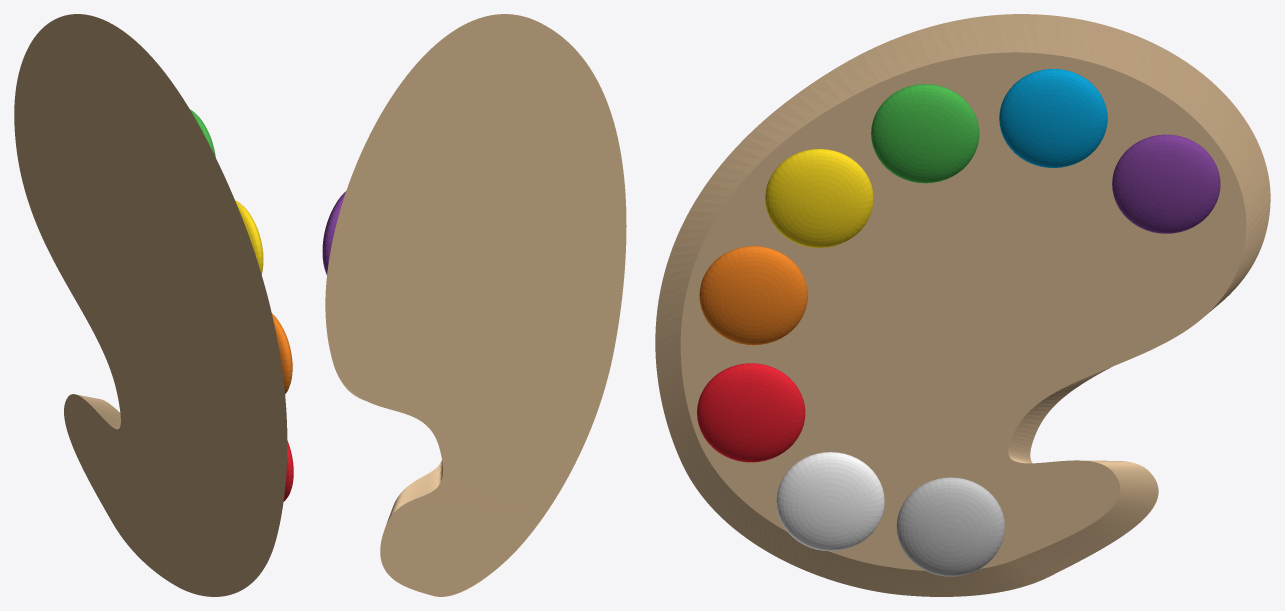
Rendered from palette.obj.
The picture shows the model from 3 angles, left to right: view 1: azimuth 30°, elevation 25°; view 2: azimuth 150°, elevation 25°; view 3: azimuth 270°, elevation 25°; orthographic projection. The views are drawn at different scales.
Visible parts, largest first — view 1: group_0_14860437, group_0_16089887, group_0_16768282; view 2: group_0_14860437, group_0_8273816; view 3: group_0_14860437, group_0_8273816, group_0_0, group_0_4634441, group_0_15277357, group_0_16448250, group_0_40919, group_0_16089887, group_0_16768282.
Part boxes in pixels (x1=…): group_0_14860437: x1=14, y1=14, x2=287, y2=596; group_0_16089887: x1=272, y1=313, x2=292, y2=394; group_0_16768282: x1=235, y1=200, x2=263, y2=274; group_0_14860437: x1=325, y1=14, x2=626, y2=596; group_0_8273816: x1=322, y1=191, x2=345, y2=274; group_0_14860437: x1=655, y1=14, x2=1270, y2=596; group_0_8273816: x1=1112, y1=134, x2=1220, y2=233; group_0_0: x1=896, y1=477, x2=1004, y2=576; group_0_4634441: x1=871, y1=84, x2=979, y2=183; group_0_15277357: x1=697, y1=363, x2=805, y2=462; group_0_16448250: x1=776, y1=452, x2=884, y2=551; group_0_40919: x1=999, y1=69, x2=1107, y2=167; group_0_16089887: x1=699, y1=246, x2=807, y2=345; group_0_16768282: x1=765, y1=149, x2=873, y2=247.
Size of the model in its own units: 2.88 by 41.51 by 39.71.
